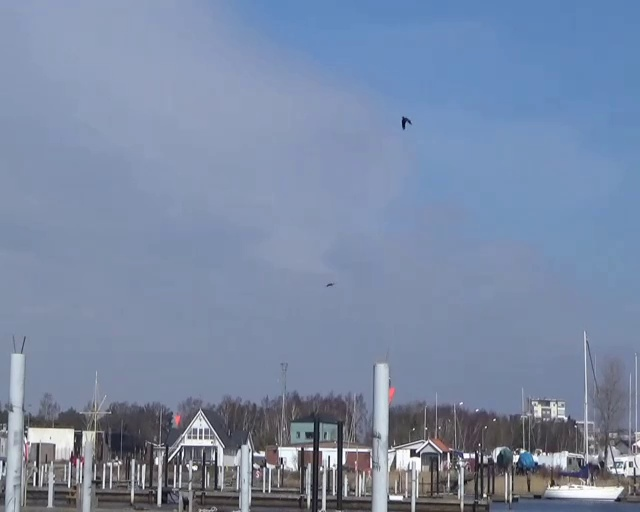BIRD: (401, 116, 412, 129)
